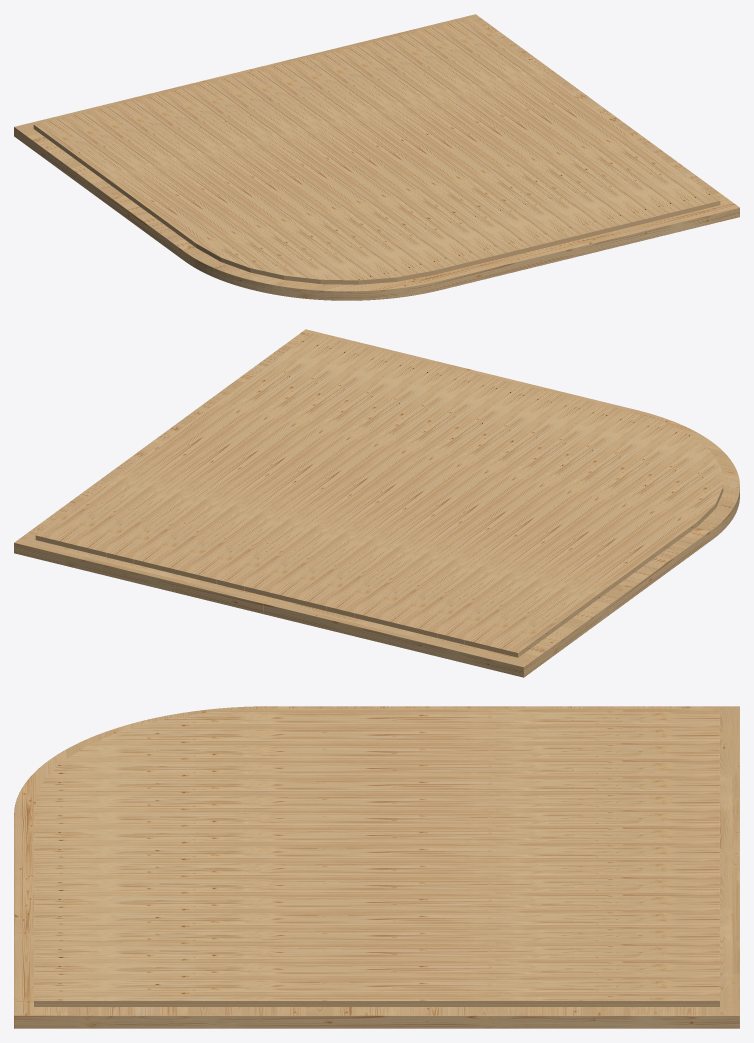
Rendered from Roundy_Alus_43mm.glb.
The picture shows the model from 3 angles, top to bottom: view 1: azimuth 30°, elevation 25°; view 2: azimuth 150°, elevation 25°; view 3: azimuth 270°, elevation 25°; orthographic projection. The views are drawn at different scales.
Visible parts, largest first — view 1: Box2131641170, Box2131641188, Rectangle772, Rectangle831; view 2: Box2131641170, Box2131641188, Rectangle772, Rectangle831; view 3: Box2131641188, Box2131641170, Rectangle831, Rectangle772.
Part boxes in pixels (<box>): Box2131641170: <box>33,70,506,284</box>; Box2131641188: <box>257,18,720,256</box>; Rectangle772: <box>14,69,513,300</box>; Rectangle831: <box>250,14,739,271</box>; Box2131641170: <box>271,391,723,657</box>; Box2131641188: <box>35,333,547,597</box>; Rectangle772: <box>264,390,739,677</box>; Rectangle831: <box>14,329,555,614</box>; Box2131641188: <box>34,858,719,1006</box>; Box2131641170: <box>34,708,719,857</box>; Rectangle831: <box>14,864,739,1028</box>; Rectangle772: <box>14,706,739,863</box>.
Bounding box in the file's own units: 2.22 × 0.0646 × 2.2.
1 material, 1 textured.
